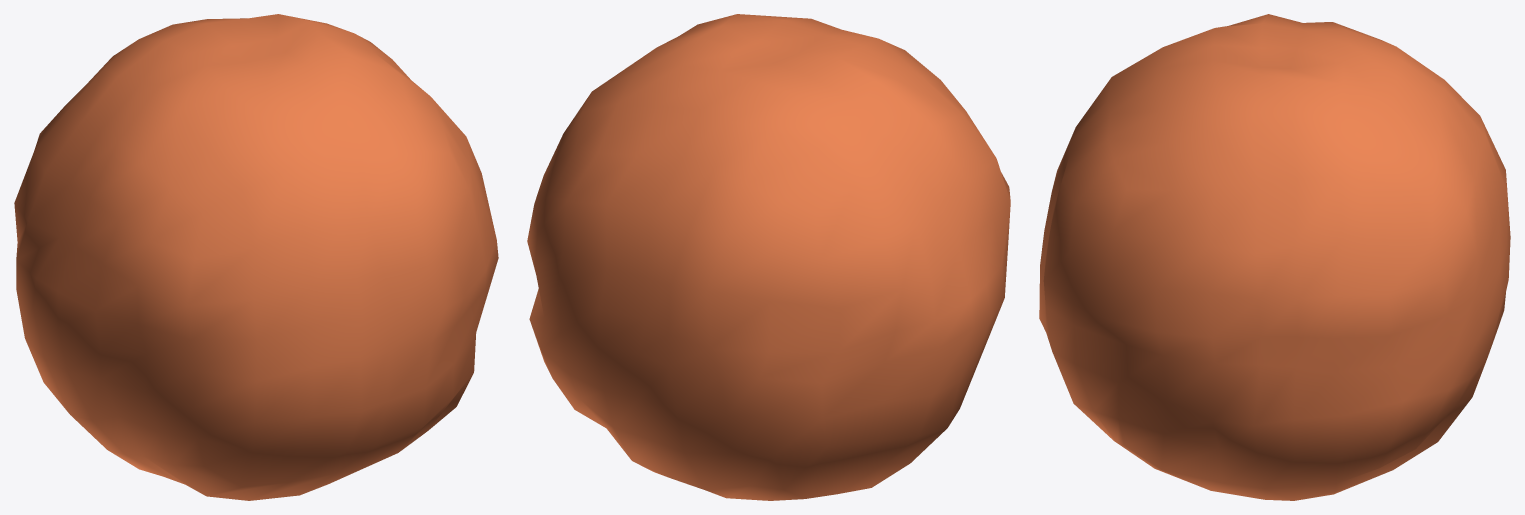
Rendered from GMP_boulder_01.fbx.
3 views of the same model, side by side, from view 1: azimuth 30°, elevation 25°; view 2: azimuth 150°, elevation 25°; view 3: azimuth 270°, elevation 25° (orthographic).
Visible parts, largest first — view 1: Roundcube; view 2: Roundcube; view 3: Roundcube.
Part boxes in pixels (x1=…): Roundcube: x1=14, y1=14, x2=498, y2=500; Roundcube: x1=527, y1=14, x2=1010, y2=500; Roundcube: x1=1039, y1=14, x2=1510, y2=500.
Size of the model in its own units: 912 by 902 by 895.
